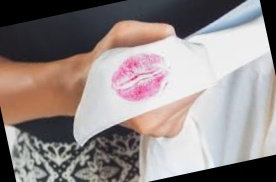lipstick: (107, 52, 175, 105)
